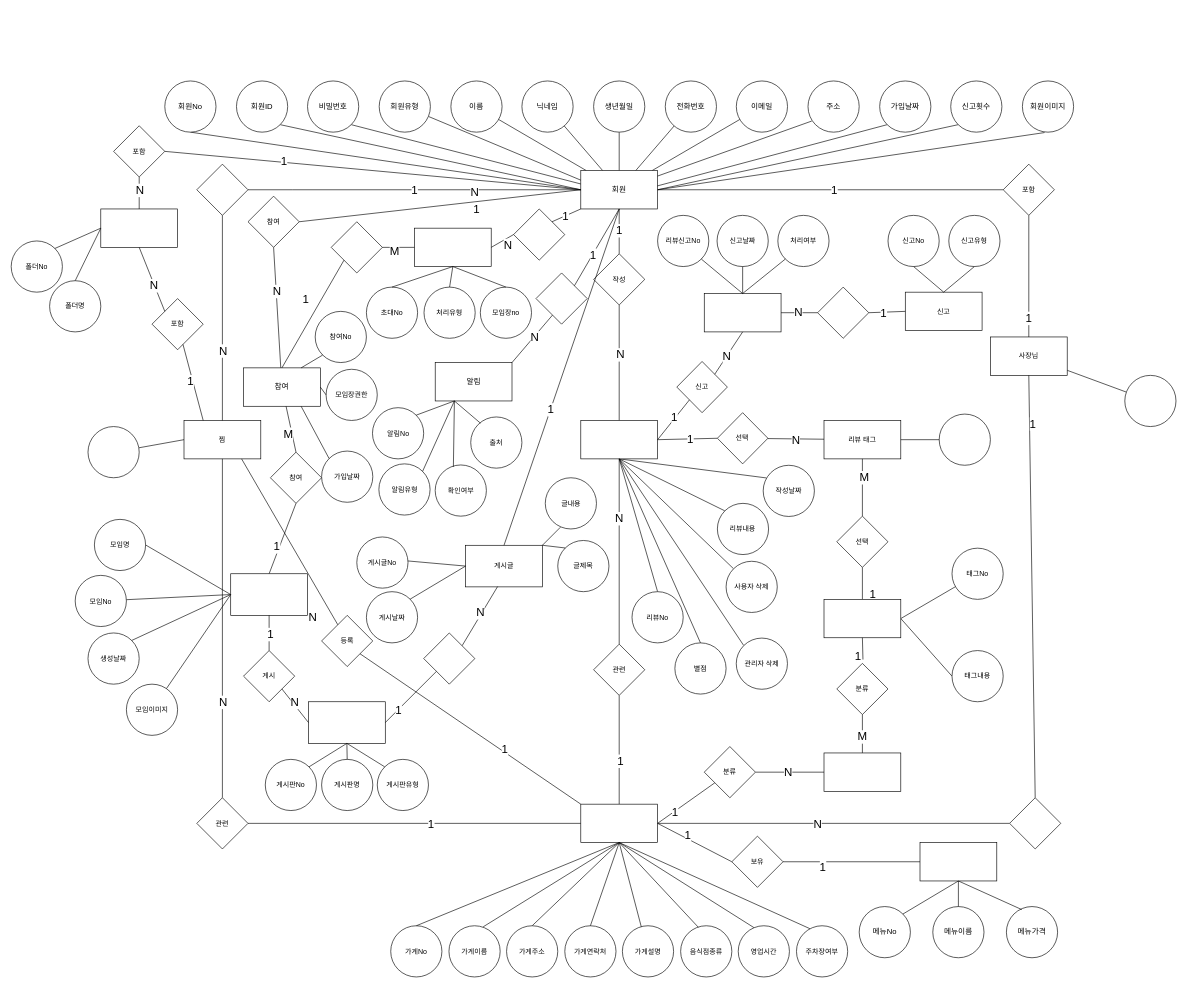
The diagram is 1187 pixels wide and 988 high, and some of its shapes have lost their labels. Each missing label, with the box of its shape:
가게: (580, 804, 658, 843)
가게 태그: (823, 752, 901, 791)
게시판: (308, 701, 385, 743)
내용: (423, 632, 475, 684)
리뷰: (580, 420, 658, 459)
리뷰신고: (704, 293, 781, 332)
리뷰태그No: (939, 413, 990, 465)
메뉴: (919, 842, 997, 881)
모임: (230, 573, 308, 615)
사장님ID: (1124, 375, 1176, 427)
수신: (535, 272, 587, 324)
운영: (1009, 797, 1061, 849)
유형선택: (817, 286, 869, 338)
저장: (196, 164, 248, 215)
찜No: (87, 426, 139, 478)
찜폴더: (100, 208, 178, 247)
초대: (414, 228, 491, 267)
초대받음: (513, 208, 565, 260)
초대함: (331, 221, 382, 273)
태그: (823, 599, 901, 638)
